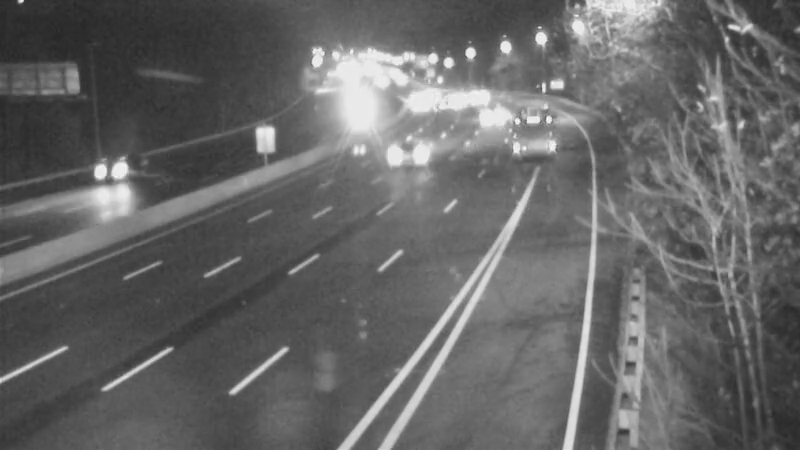vehicle: (373, 111, 453, 191), (70, 135, 150, 215), (456, 69, 506, 119), (392, 81, 442, 131), (420, 80, 470, 130), (465, 91, 515, 141), (503, 98, 553, 148), (330, 94, 380, 144)
